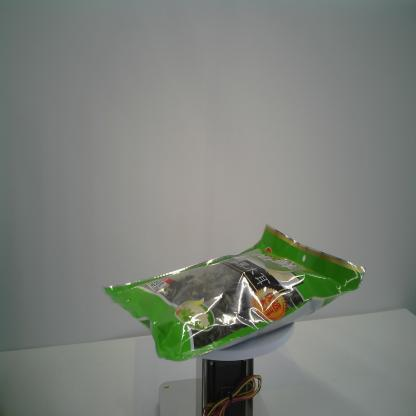Dried Food: (102, 222, 367, 362)
